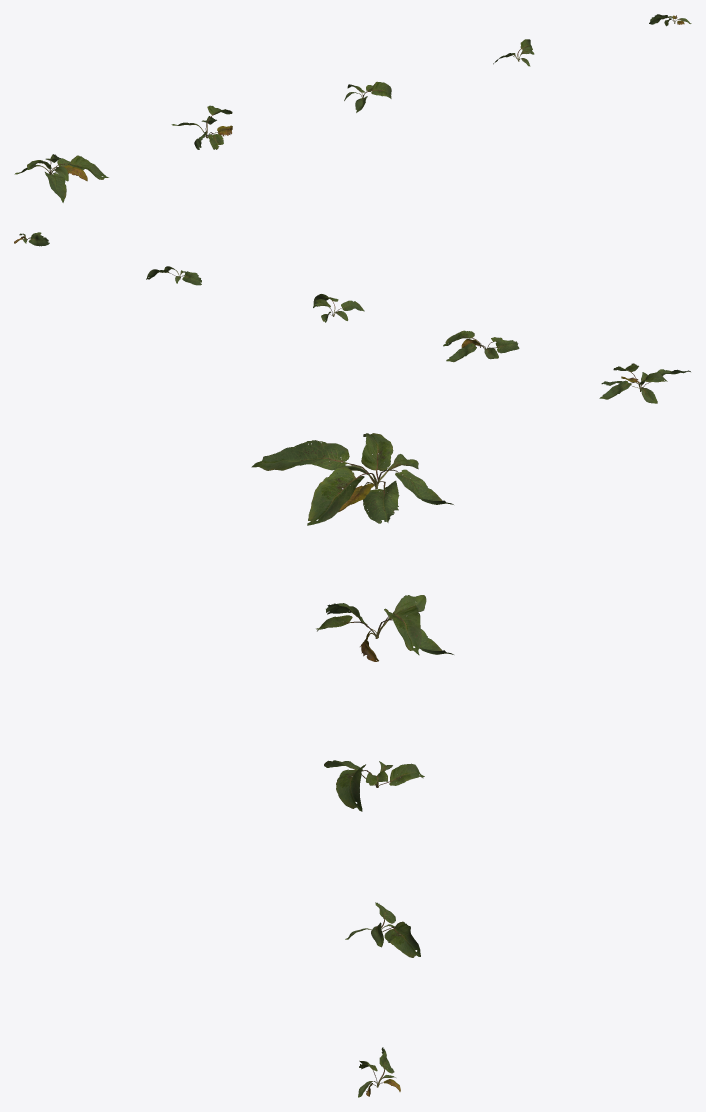
File: weed_plant_02.glb
3 renders of one model, top to bottom at view 1: azimuth 30°, elevation 25°; view 2: azimuth 150°, elevation 25°; view 3: azimuth 270°, elevation 25°, orthographic. The views are drawn at different scales.
Visible parts, largest first — view 1: weed_plant_02_a_mesh, weed_plant_02_b_mesh, weed_plant_02_c_mesh; view 2: weed_plant_02_a_mesh, weed_plant_02_b_mesh, weed_plant_02_c_mesh, weed_plant_02_d_mesh, weed_plant_02_e_mesh; view 3: weed_plant_02_a_mesh, weed_plant_02_b_mesh, weed_plant_02_c_mesh, weed_plant_02_d_mesh.
Boxes of the visible parts, x1=… form: weed_plant_02_a_mesh: x1=14, y1=154, x2=108, y2=202; weed_plant_02_b_mesh: x1=171, y1=105, x2=232, y2=149; weed_plant_02_c_mesh: x1=344, y1=81, x2=391, y2=112; weed_plant_02_a_mesh: x1=599, y1=363, x2=690, y2=403; weed_plant_02_b_mesh: x1=443, y1=330, x2=519, y2=362; weed_plant_02_c_mesh: x1=313, y1=294, x2=364, y2=322; weed_plant_02_d_mesh: x1=146, y1=266, x2=201, y2=285; weed_plant_02_e_mesh: x1=14, y1=232, x2=49, y2=246; weed_plant_02_a_mesh: x1=251, y1=433, x2=453, y2=525; weed_plant_02_b_mesh: x1=316, y1=595, x2=453, y2=661; weed_plant_02_c_mesh: x1=324, y1=760, x2=424, y2=811; weed_plant_02_d_mesh: x1=345, y1=902, x2=420, y2=957.
Bounding box in the file's own units: 2.13 × 0.0751 × 0.2909.
Materials: 1 (1 with a texture image).
